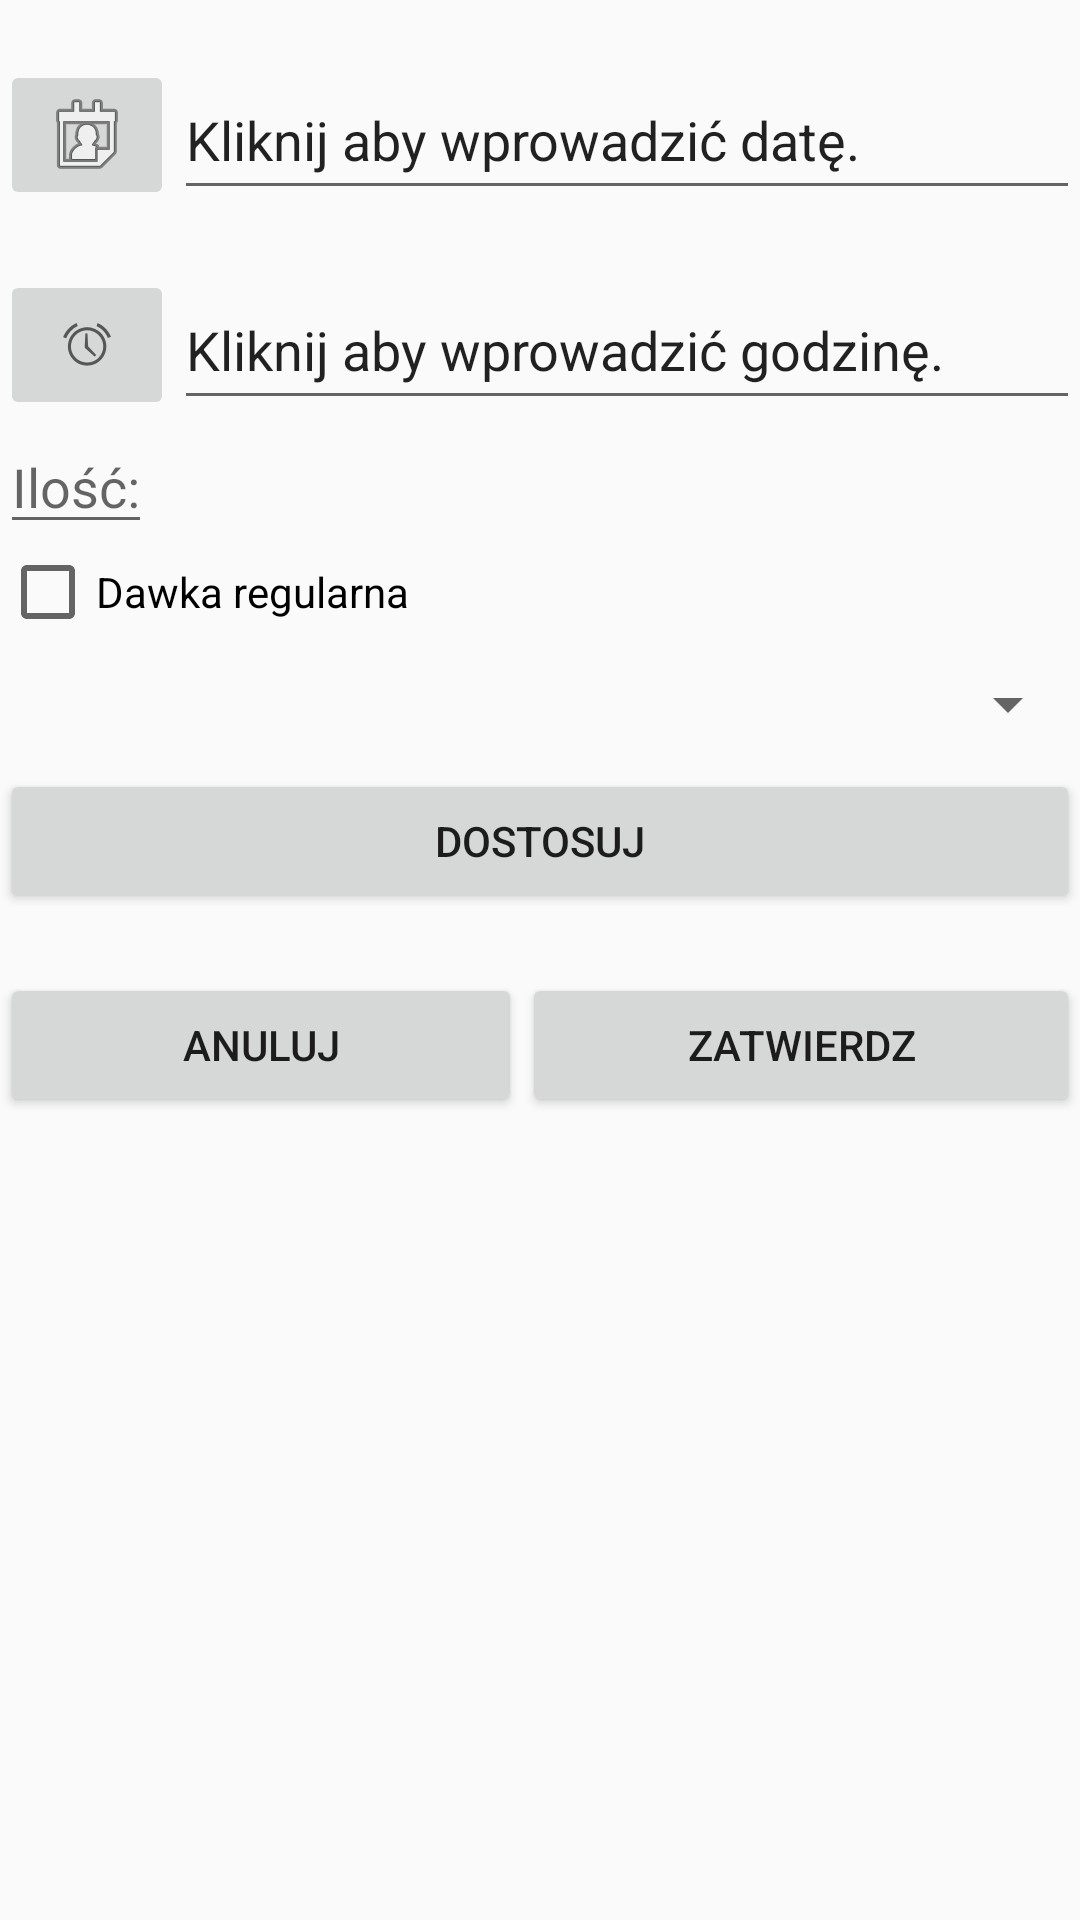

Where icons sit on this 1080w x 1920h app screen, as box=[x1, y1, x2, y2]:
calendar: box=[12, 78, 162, 192]
lock idle alarm: box=[12, 288, 162, 402]
